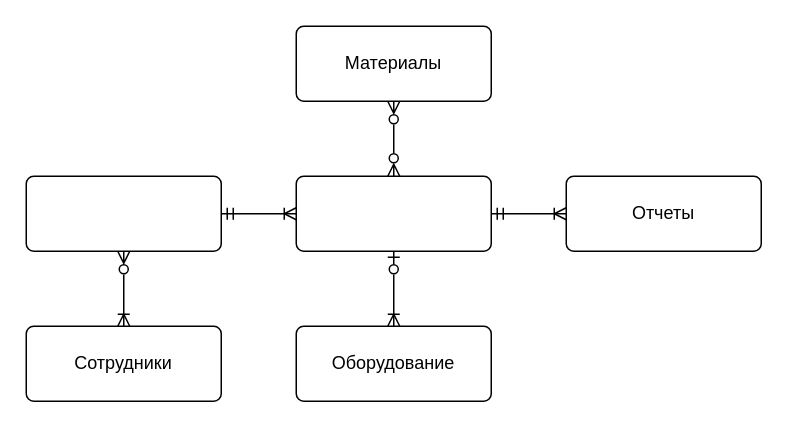
The diagram is 788 pixels wide and 428 high, and some of its shapes have lost their labels. Each missing label, with the box of its shape:
Проекты: (25, 175, 221, 251)
Эксперимент: (295, 175, 491, 251)
